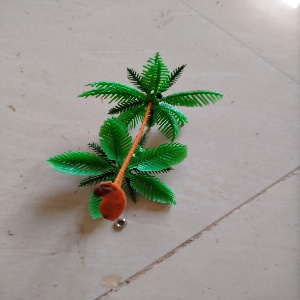plant: (72, 58, 189, 217)
